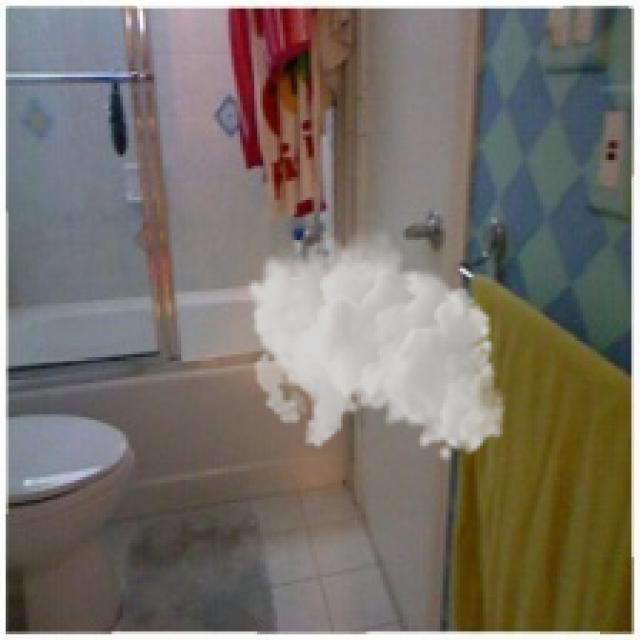smoke: (245, 223, 506, 463)
